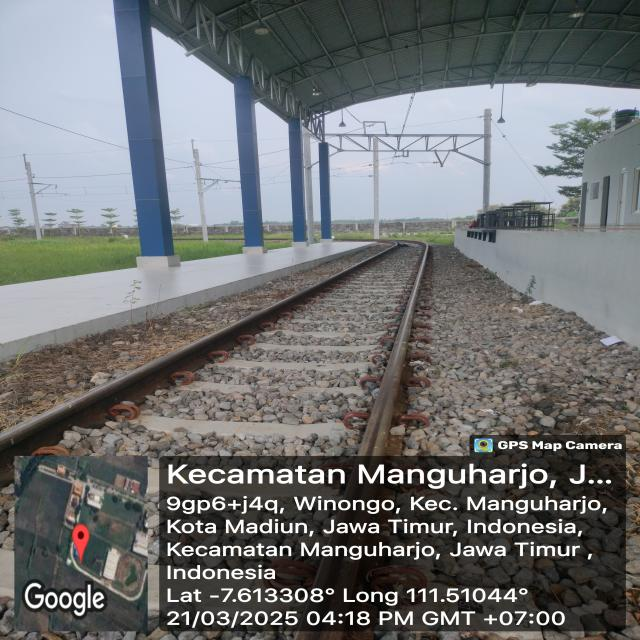rail-detection: (0, 240, 403, 482), (358, 241, 429, 456)
